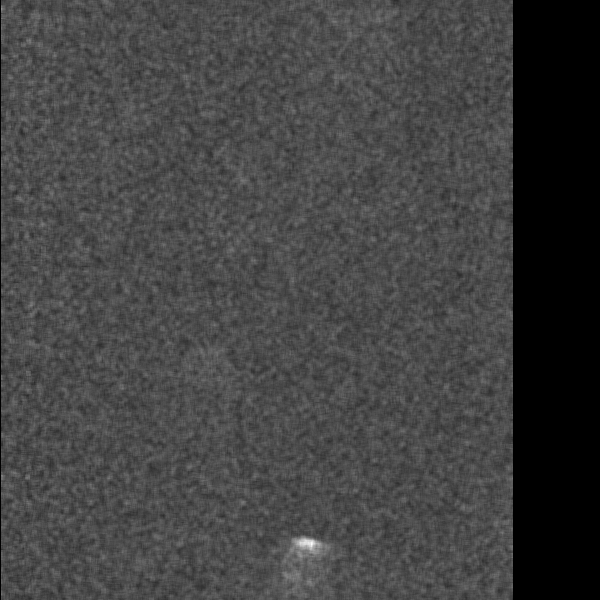spark: (276, 556, 319, 600), (285, 533, 324, 575)
